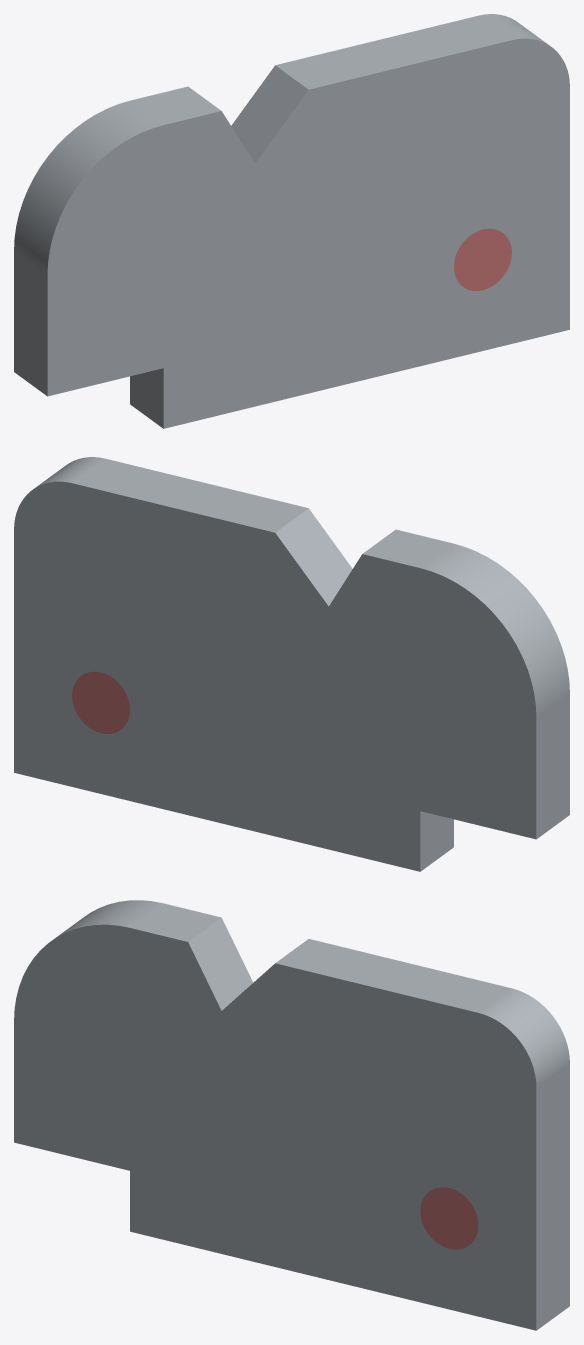
File: step_06.glb
3 renders of one model, top to bottom at view 1: azimuth 30°, elevation 25°; view 2: azimuth 150°, elevation 25°; view 3: azimuth 330°, elevation 25°, orthographic.
Visible parts, largest first — view 1: part__vee notch plate, removed__vee notch plate; view 2: part__vee notch plate, removed__vee notch plate; view 3: part__vee notch plate, removed__vee notch plate.
Part boxes in pixels (bbox=[...]): part__vee notch plate: bbox=[14, 14, 569, 428]; removed__vee notch plate: bbox=[454, 228, 511, 290]; part__vee notch plate: bbox=[14, 457, 569, 871]; removed__vee notch plate: bbox=[72, 671, 129, 733]; part__vee notch plate: bbox=[14, 900, 569, 1330]; removed__vee notch plate: bbox=[420, 1187, 478, 1249].
Bounding box in the file's own units: 90 × 50 × 10.
